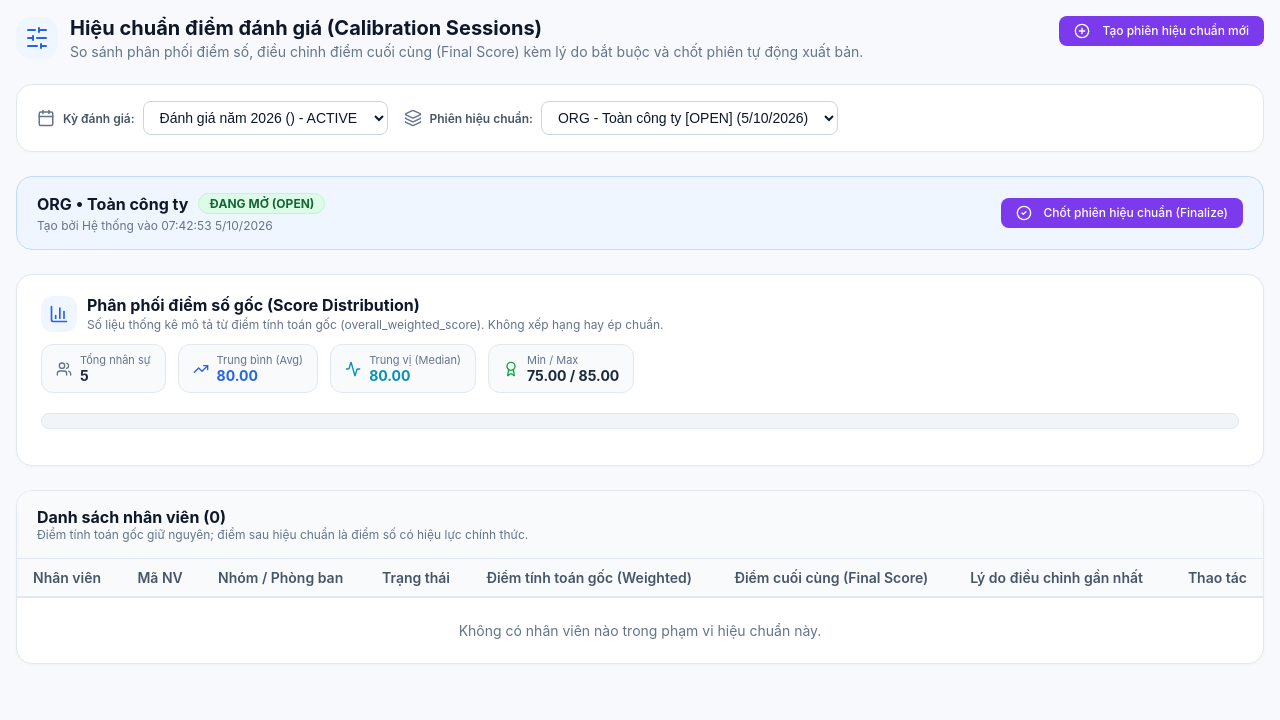
CalibrationPage Integration & RBAC › shows confirmation dialog when clicking Finalize Session
This screenshot has width=1280, height=720.
Click the button "Chốt phiên hiệu chuẩn (Finalize)". click: [1122, 213]
box: [1001, 198, 1243, 228]
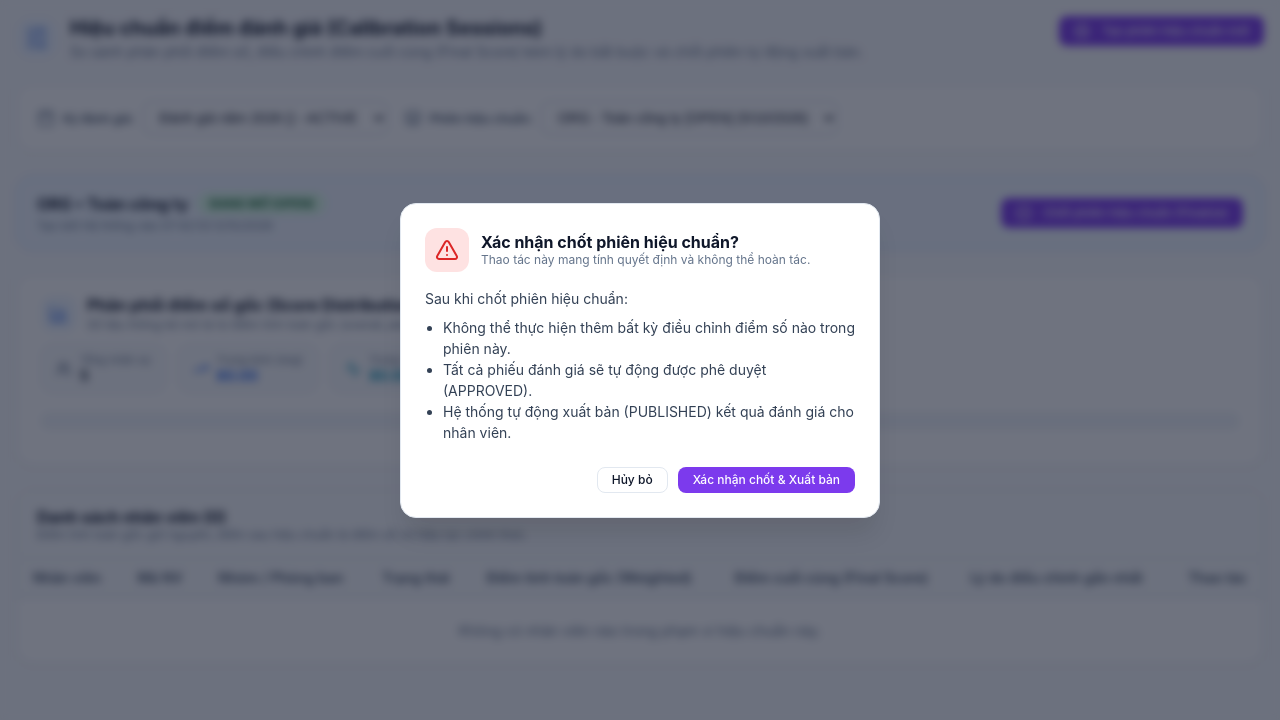
Check: the heading "Xác nhận chốt phiên hiệu chuẩn?" is shown, box [481, 232, 739, 252]
Check: the text "Thao tác này mang tính quyết định và không thể hoàn tác." is shown, box [481, 252, 810, 267]
Check: the button "Xác nhận chốt & Xuất bản" is shown, box [678, 466, 855, 492]
